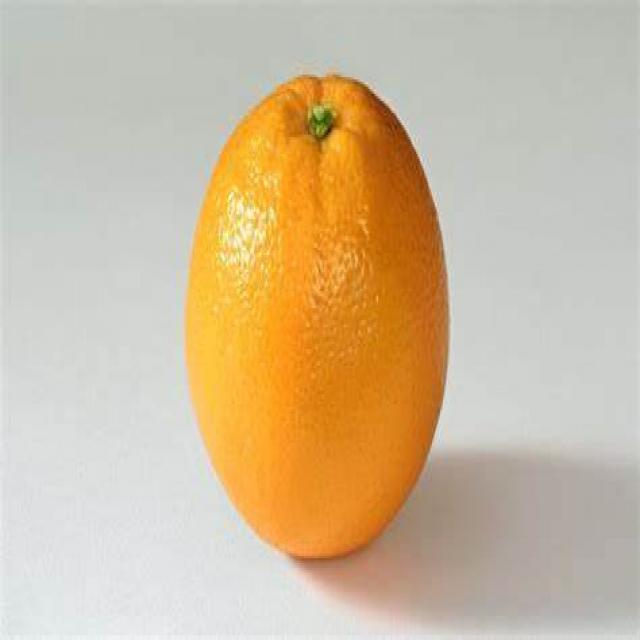Orange: (175, 72, 456, 562)
